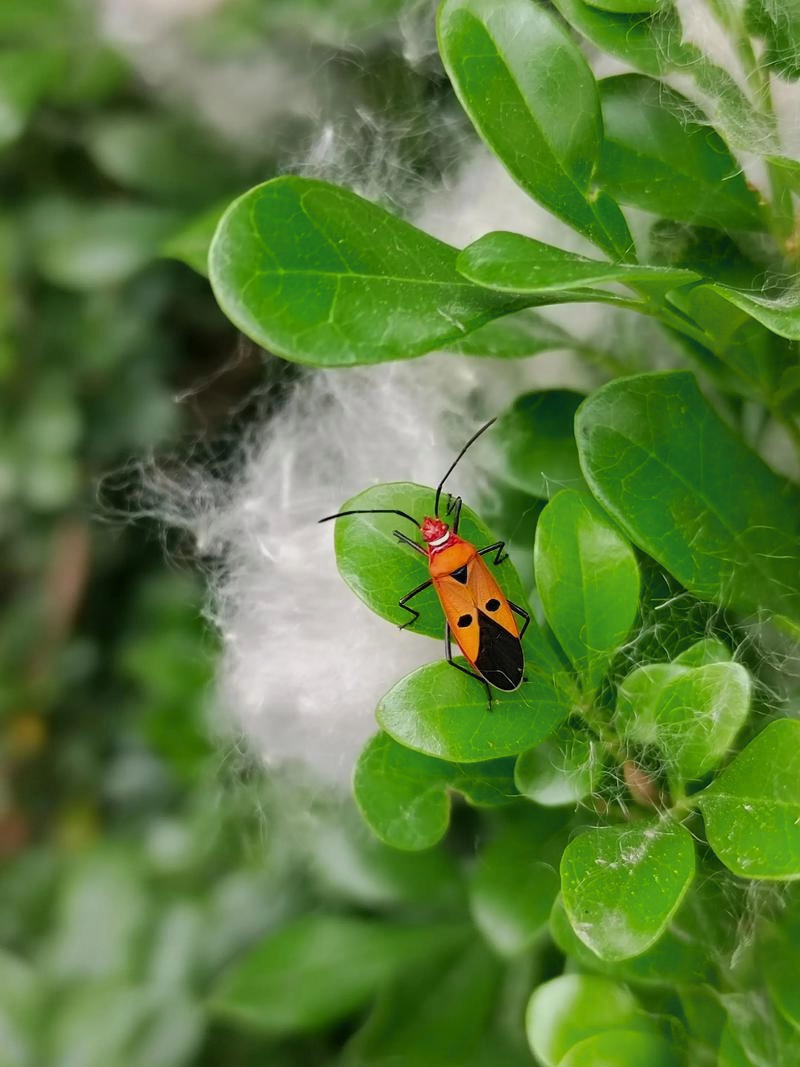Stink_Bug: (452, 450, 501, 700)
